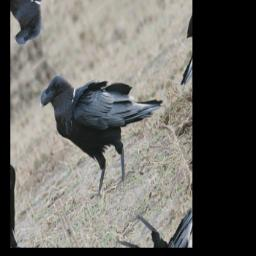Crow: (35, 12, 176, 217)
